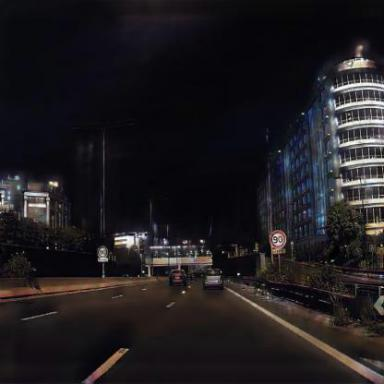Speed_limit_90: (270, 230, 285, 249), (98, 247, 108, 259)
